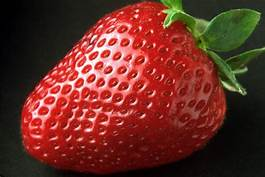Fresa: (18, 1, 234, 177)
